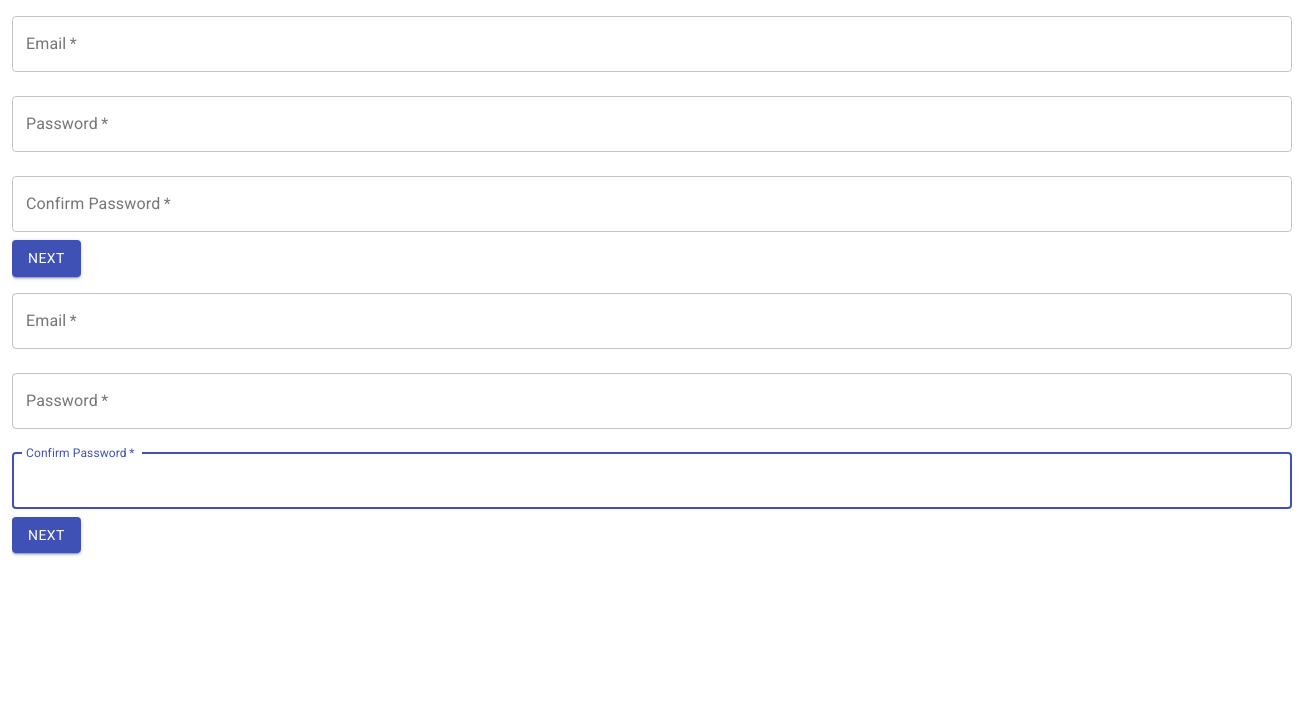
Test: Components - Delivery Form › should show error message in password if validation fails
The width and height of the screenshot is (1304, 720).
Type "12345" into the password field with id "confirmPassword" at (652, 480), box [12,452,1292,508]
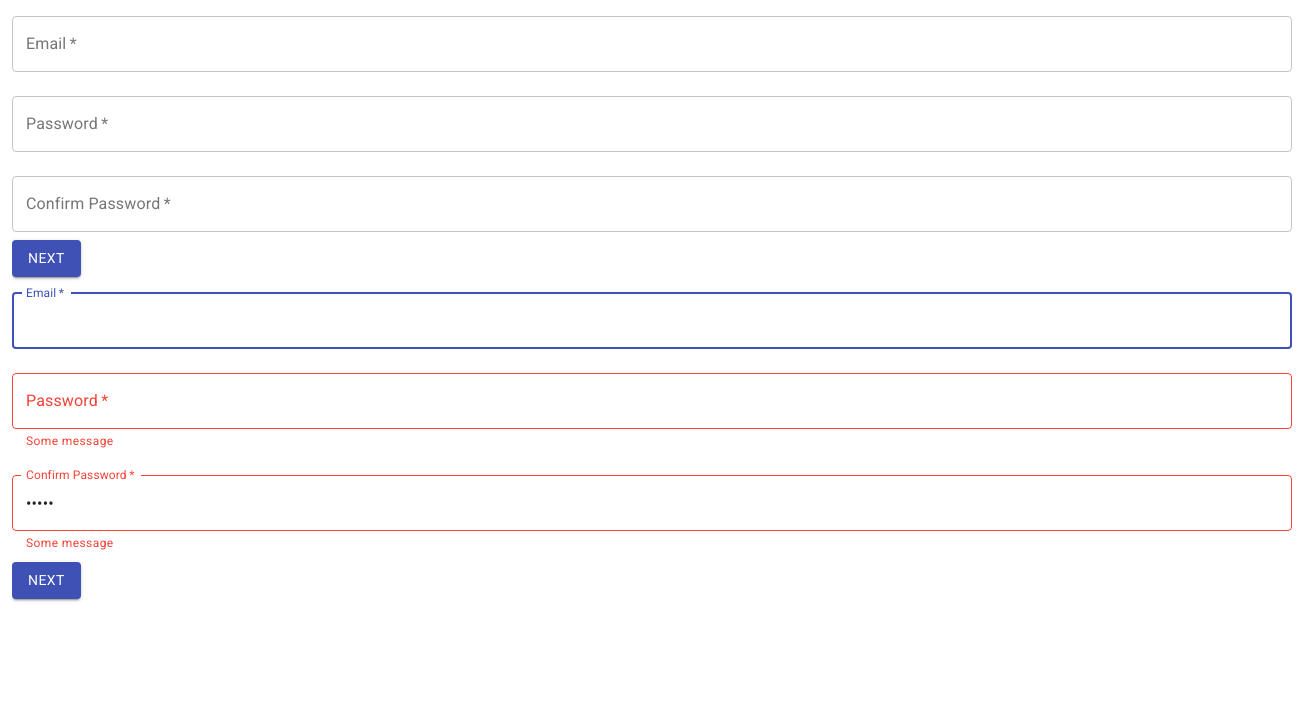
Now the text "Some message" is shown 2 times, box [26,434,114,448]; [26,536,114,550]
